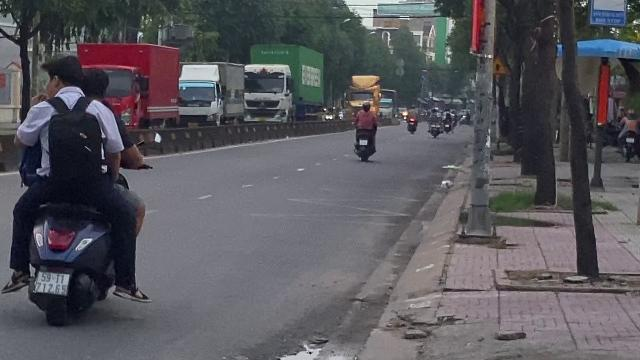licenseplate: (34, 271, 68, 293)
motorcyclist: (1, 52, 151, 328)
nohelmet: (43, 54, 85, 98), (80, 66, 112, 100)
